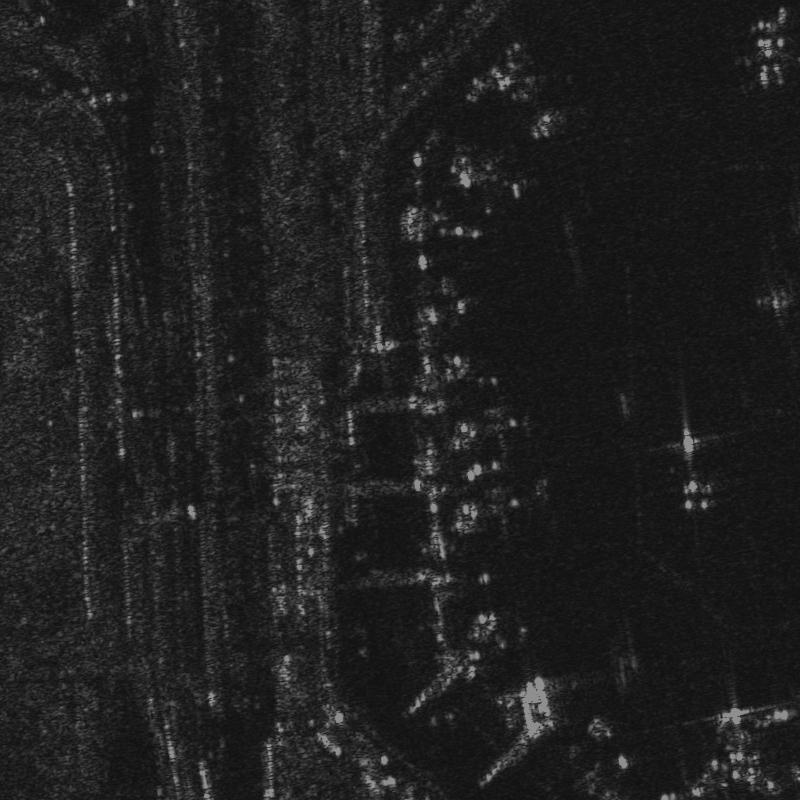A220: (493, 63, 584, 145), (443, 144, 540, 220), (454, 385, 544, 465), (460, 473, 562, 543), (704, 696, 776, 795)
Boeing737: (666, 425, 734, 517), (729, 8, 799, 92)
